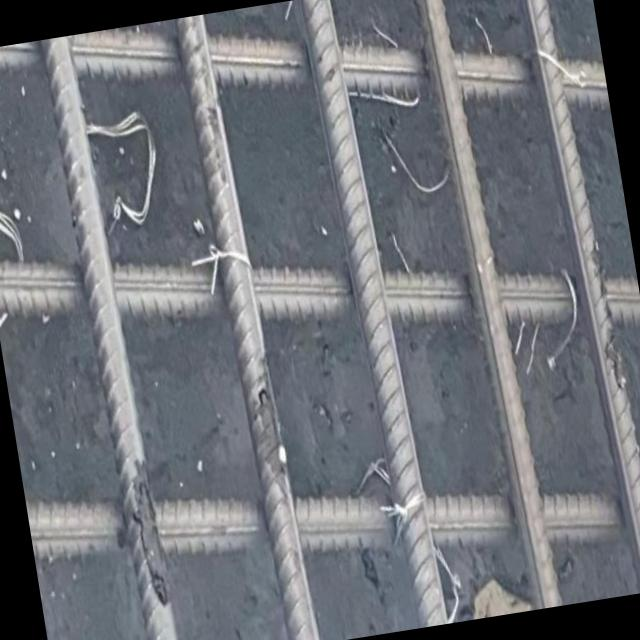ribbed bar: (0, 155, 640, 434), (26, 398, 640, 640), (0, 0, 611, 209), (295, 0, 451, 632), (169, 13, 323, 640), (406, 0, 563, 614), (36, 35, 183, 640), (507, 0, 640, 598)
